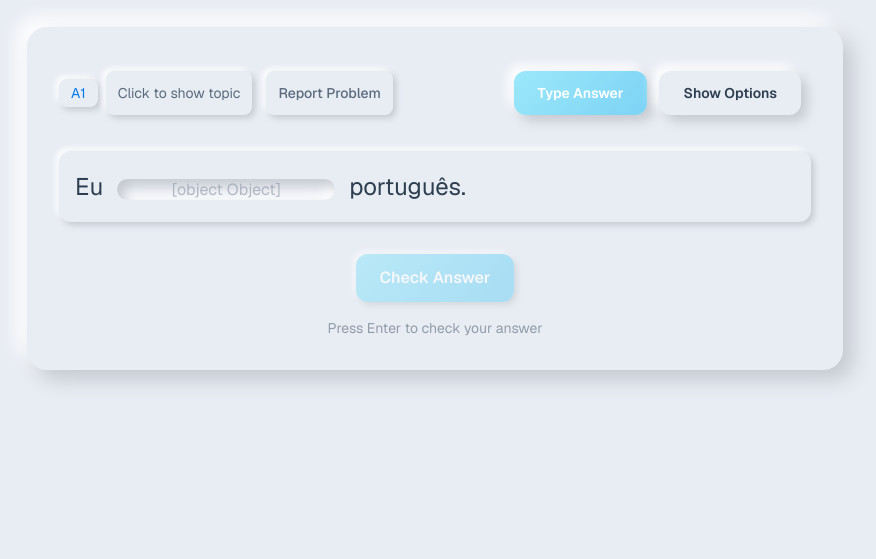
Test: Learning Component - Multiple Choice Options › should handle API failure and still provide correct answer
// Switch to multiple choice mode
Click the button "Show Options": (730, 93) [660, 71, 801, 115]
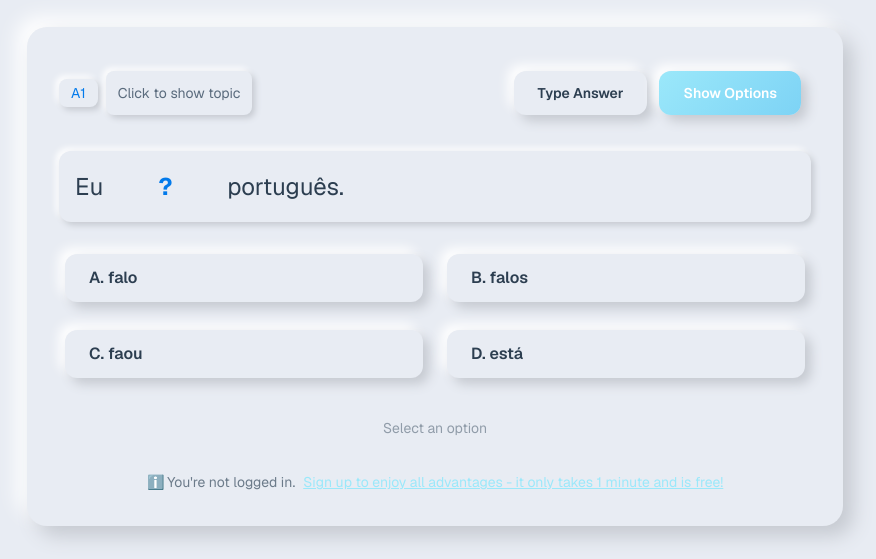
expect the button "A. falo" is shown: met, box [65, 254, 423, 302]
